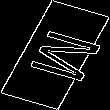M_E: (10, 24, 100, 86)
